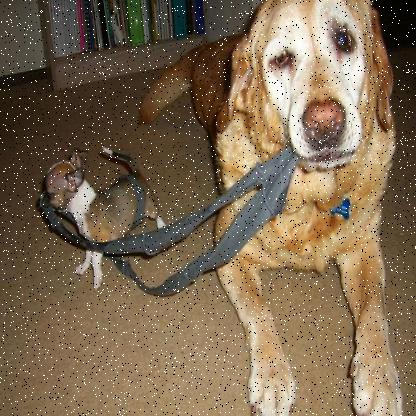dog: (170, 0, 414, 407), (34, 143, 170, 276)
